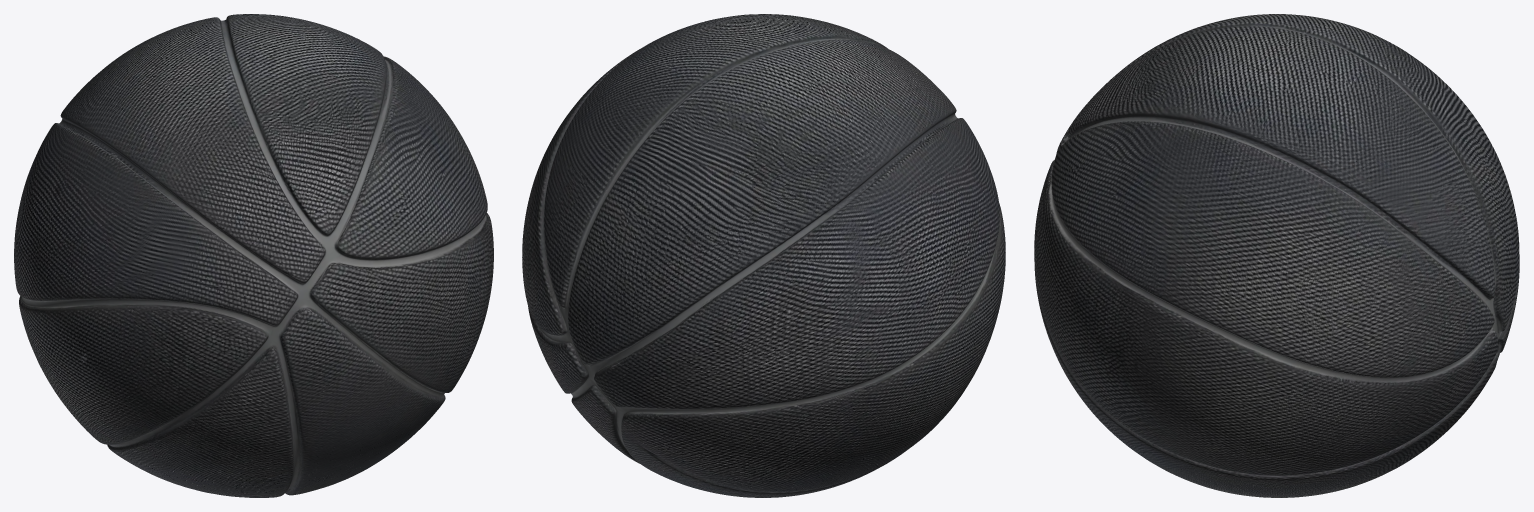
File: basketball-nera-mobile.glb
3 renders of one model, left to right at view 1: azimuth 30°, elevation 25°; view 2: azimuth 150°, elevation 25°; view 3: azimuth 270°, elevation 25°, orthographic.
Visible parts, largest first — view 1: node_0; view 2: node_0; view 3: node_0.
Part boxes in pixels (x1,y1,x2,y2): node_0: [14, 14, 493, 497]; node_0: [522, 14, 1005, 497]; node_0: [1034, 14, 1519, 497].
Size of the model in its own units: 1.18 by 1.19 by 1.19.
Materials: 1 (1 with a texture image).
